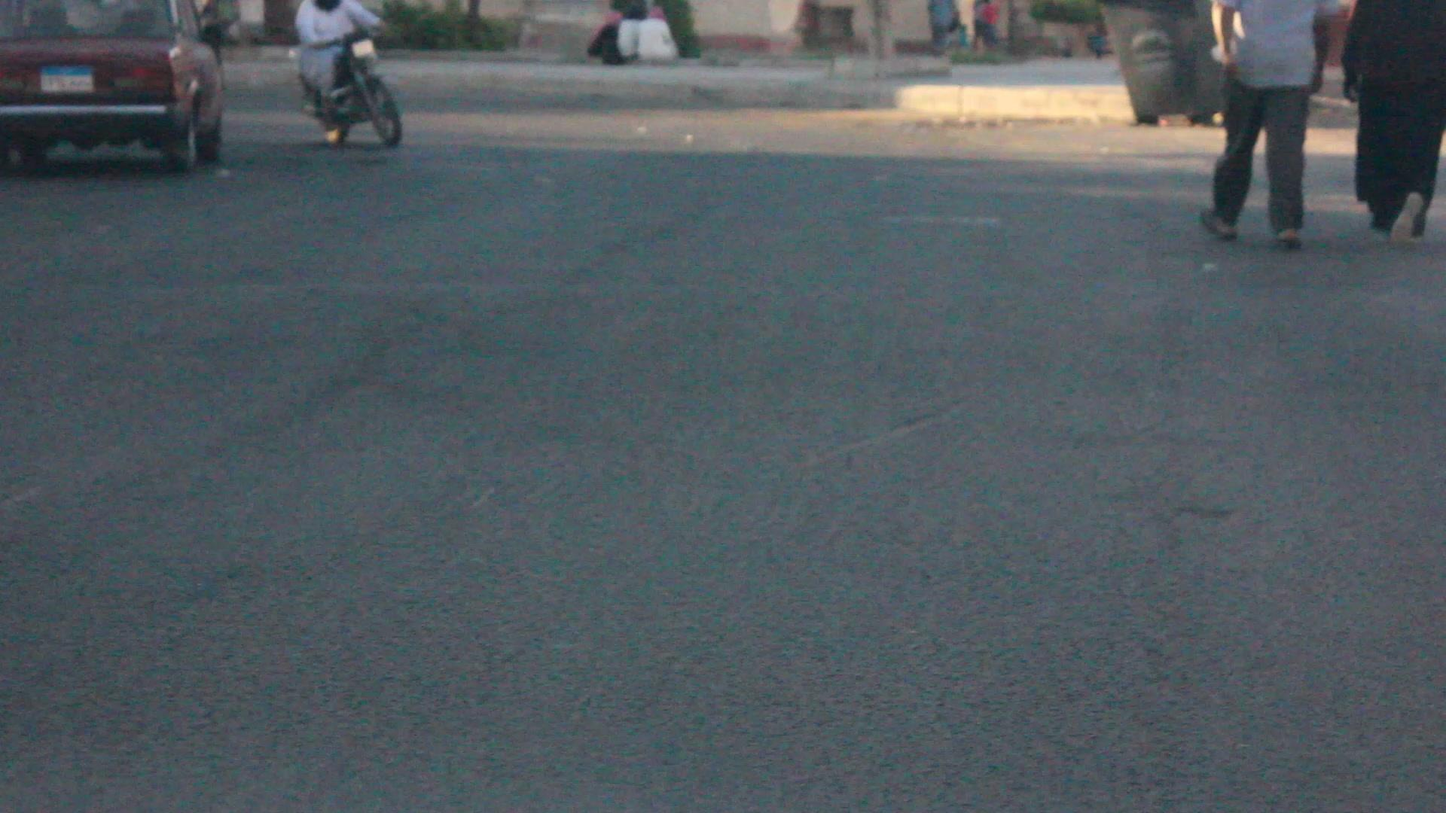Bump: (0, 271, 1446, 391)
